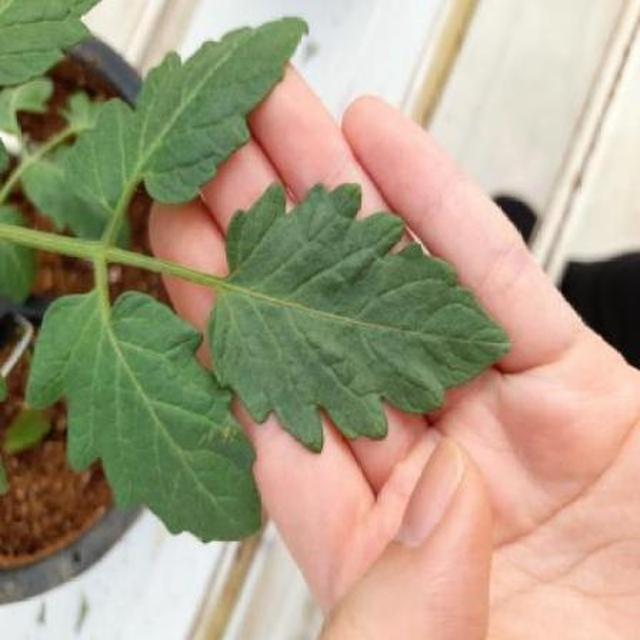Healthy Leaf: (205, 159, 513, 596)
